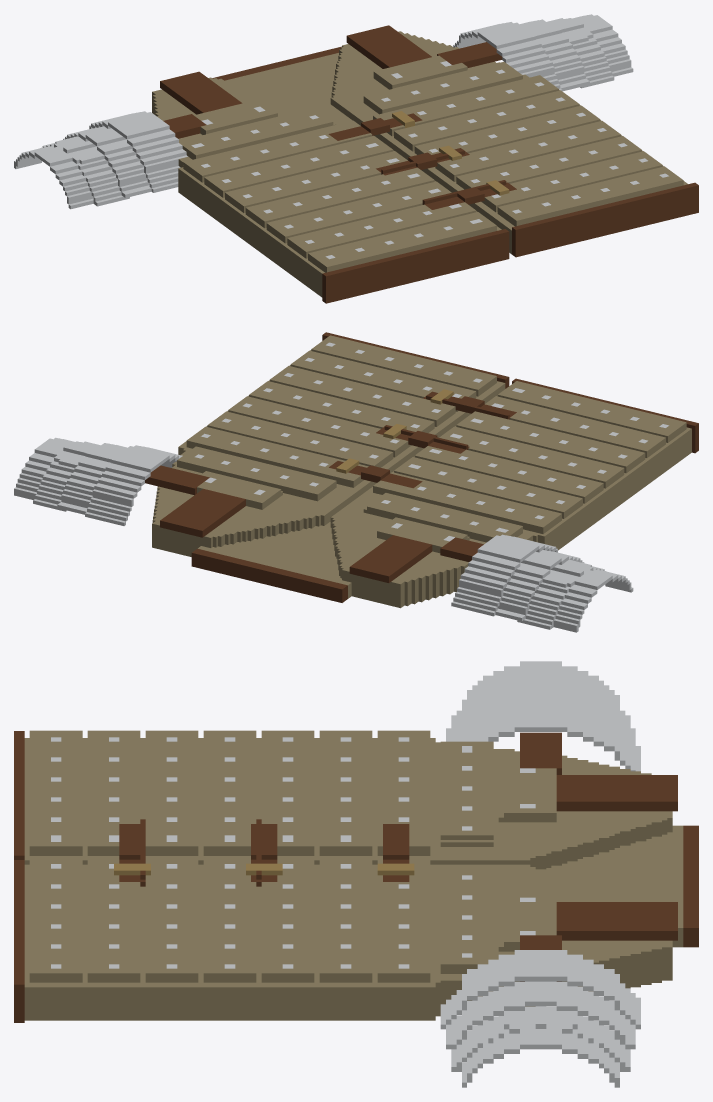
The model's file is lc_brigandine_shoulders.glb.
The picture shows the model from 3 angles, top to bottom: view 1: azimuth 30°, elevation 25°; view 2: azimuth 150°, elevation 25°; view 3: azimuth 270°, elevation 25°; orthographic projection. The views are drawn at different scales.
Visible parts, largest first — view 1: lc_brigandine_shoulders:compound; view 2: lc_brigandine_shoulders:compound; view 3: lc_brigandine_shoulders:compound.
Part boxes in pixels (x1,y1,x2,y2): lc_brigandine_shoulders:compound: (14, 14, 698, 303); lc_brigandine_shoulders:compound: (14, 332, 698, 632); lc_brigandine_shoulders:compound: (14, 661, 698, 1087).
Bounding box in the file's own units: 0.688 × 0.048 × 0.52.
